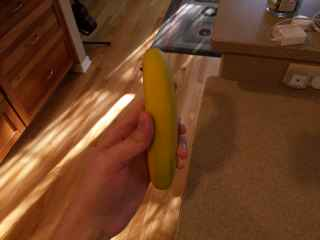banana: (141, 47, 180, 192)
